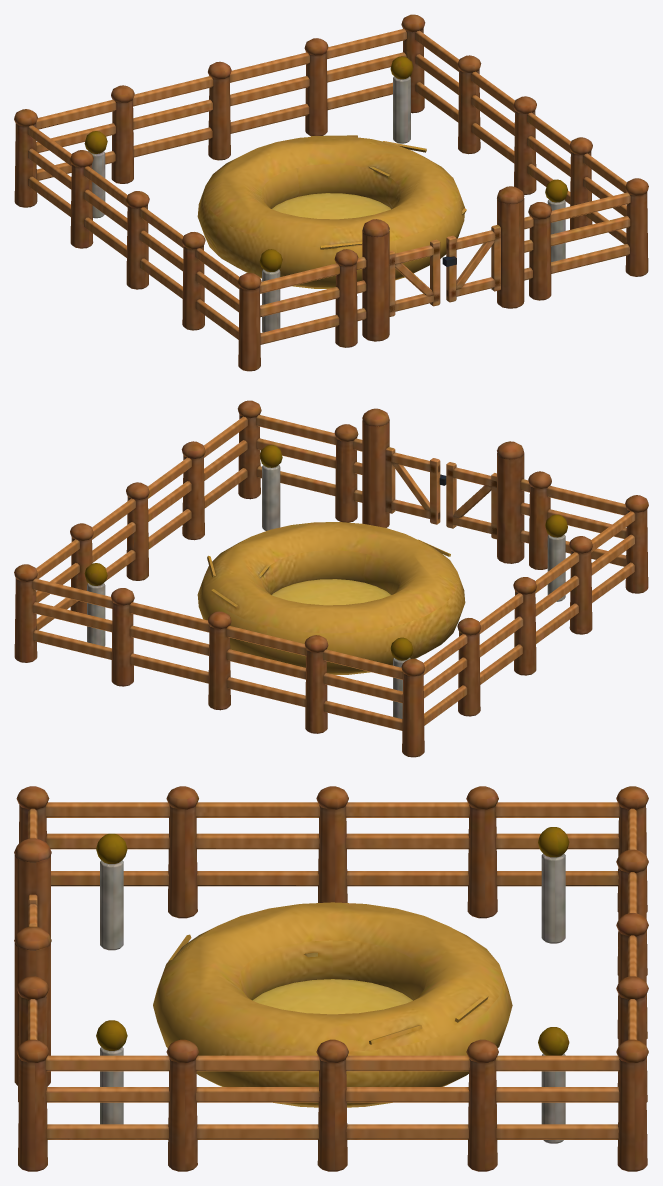
File: golden_nest.glb
3 renders of one model, top to bottom at view 1: azimuth 30°, elevation 25°; view 2: azimuth 150°, elevation 25°; view 3: azimuth 270°, elevation 25°, orthographic. The views are drawn at different scales.
Visible parts, largest first — view 1: golden_nest, gate1, gate0; view 2: golden_nest, gate1, gate0; view 3: golden_nest.
Boxes of the visible parts, x1=… form: golden_nest: x1=14, y1=14, x2=648, y2=371; gate1: x1=442, y1=224, x2=500, y2=302; gate0: x1=389, y1=239, x2=440, y2=316; golden_nest: x1=14, y1=400, x2=648, y2=757; gate1: x1=385, y1=447, x2=446, y2=524; gate0: x1=446, y1=462, x2=496, y2=539; golden_nest: x1=14, y1=786, x2=648, y2=1171.
Bounding box in the file's own units: 2 × 0.5647 × 2.01.
Materials: 1 (1 with a texture image).
